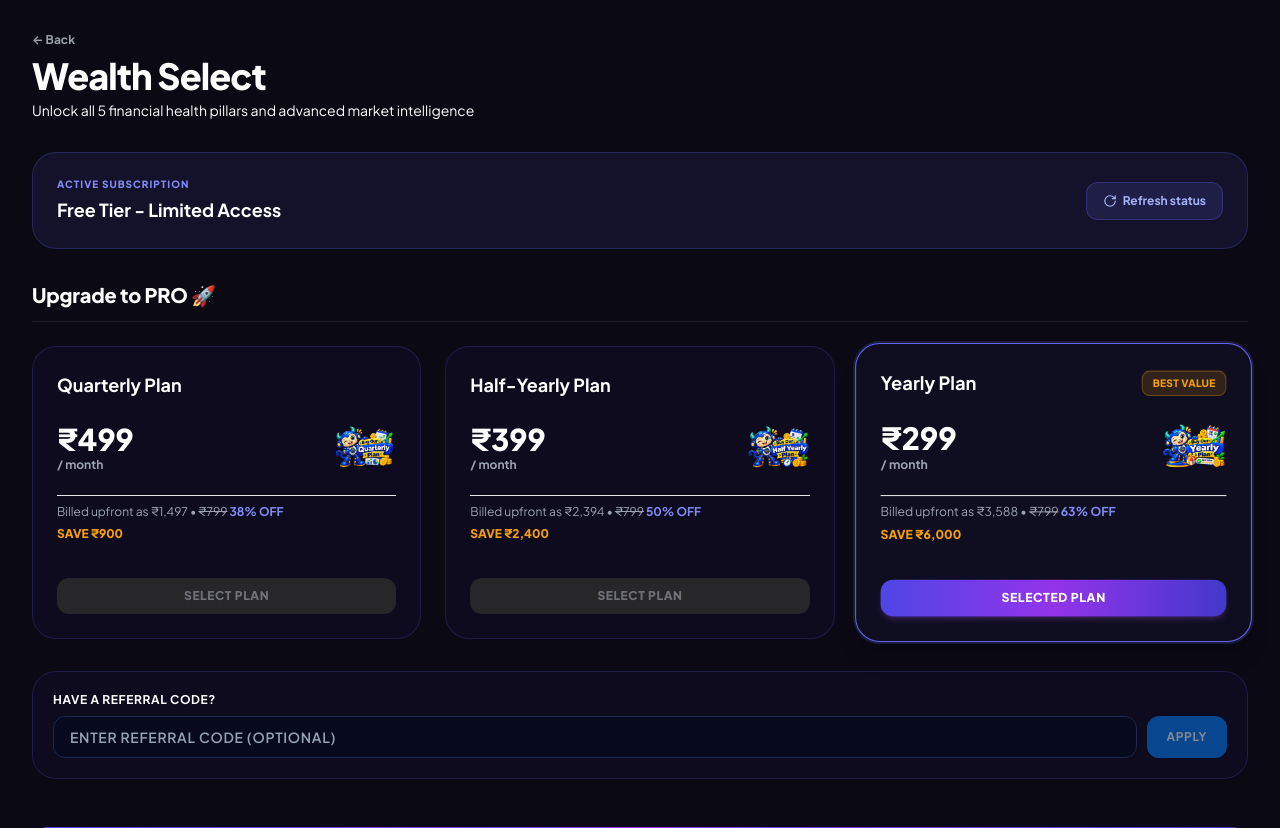
Scenario: Referral Flow - SubscriptionPage & RegisterPage › SubscriptionPage Referral Section › clears applied discount and message when user modifies input after applying
This screenshot has width=1280, height=828.
Click the element with test id "sub-plan-card-3". click: coordinates (227, 492)
box: [32,346,421,639]
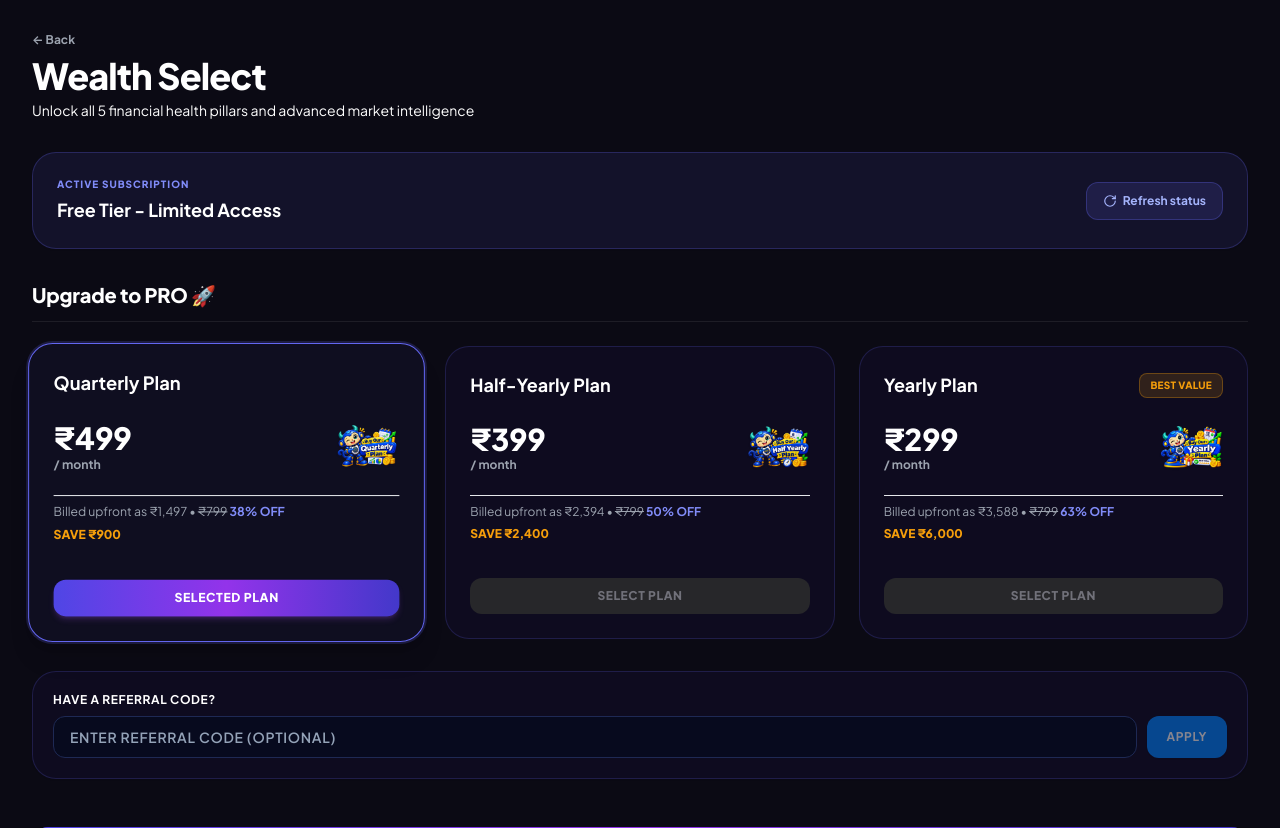
Type "FINFREE" into the field with placeholder "Enter Referral Code (Optional)". click: coordinates (595, 737)
box: [53,716,1136,758]
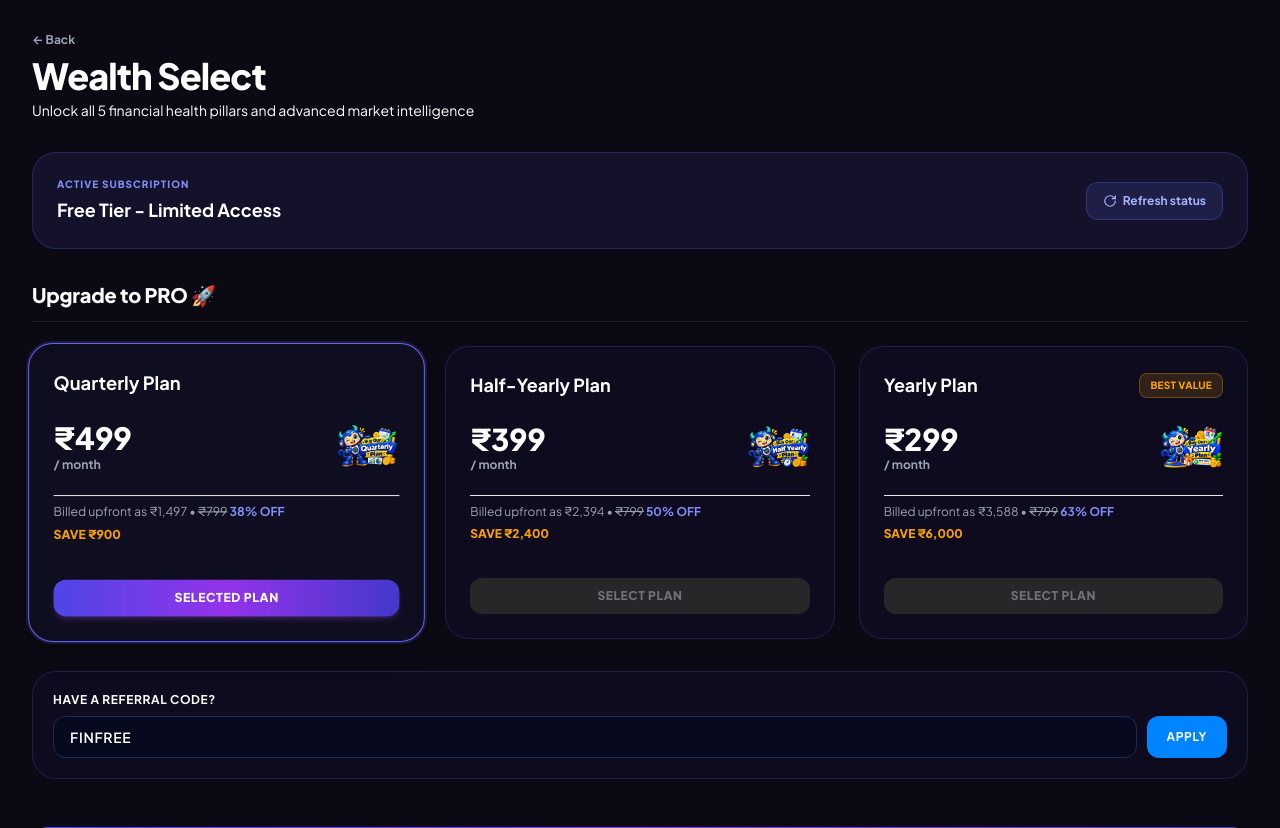
Click the button "APPLY". click: coordinates (1187, 737)
box: [1146,716,1227,758]
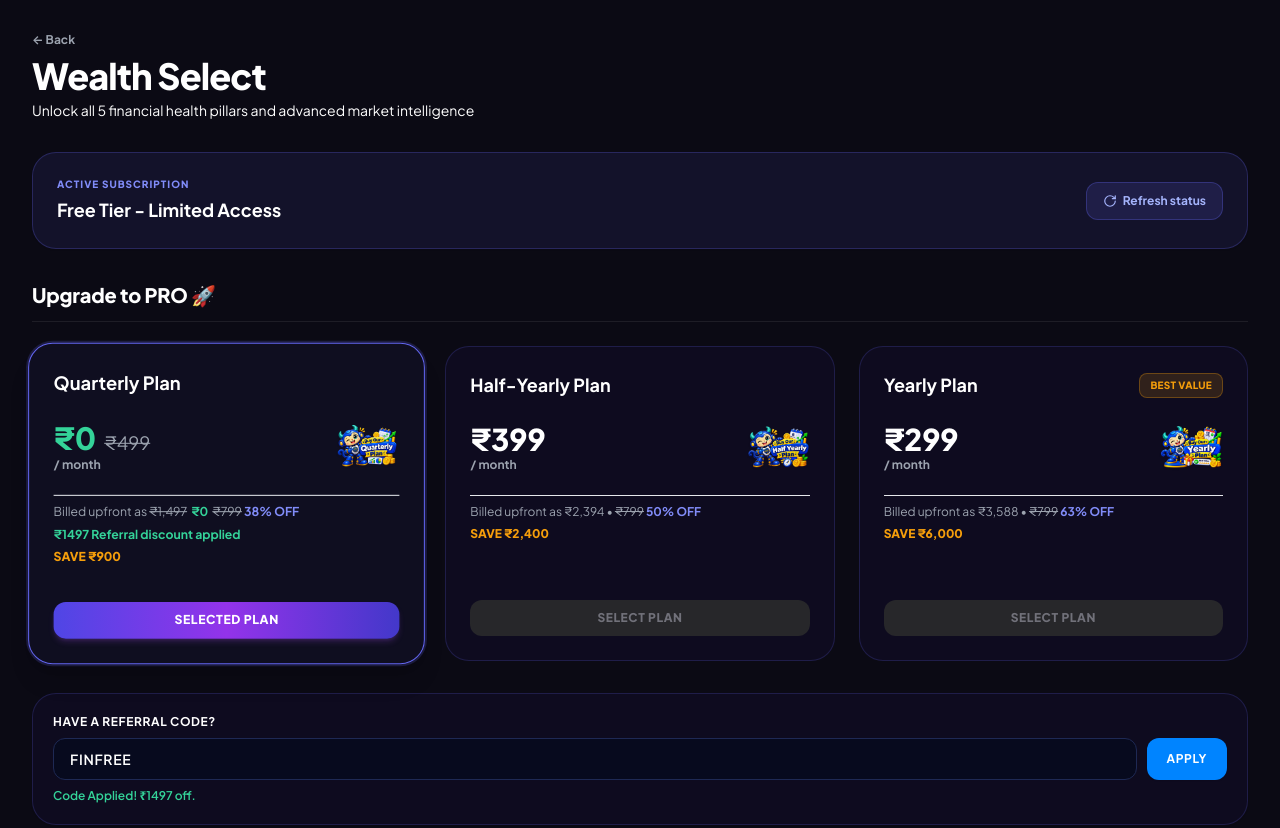
Expected: the text "Code Applied! ₹1497 off." is shown, [53,788,196,803]
// User modifies text
Replace the text in the field with placeholder "Enter Referral Code (Optional)" with "FINFREE2". click: coordinates (595, 759)
box: [53,738,1136,780]
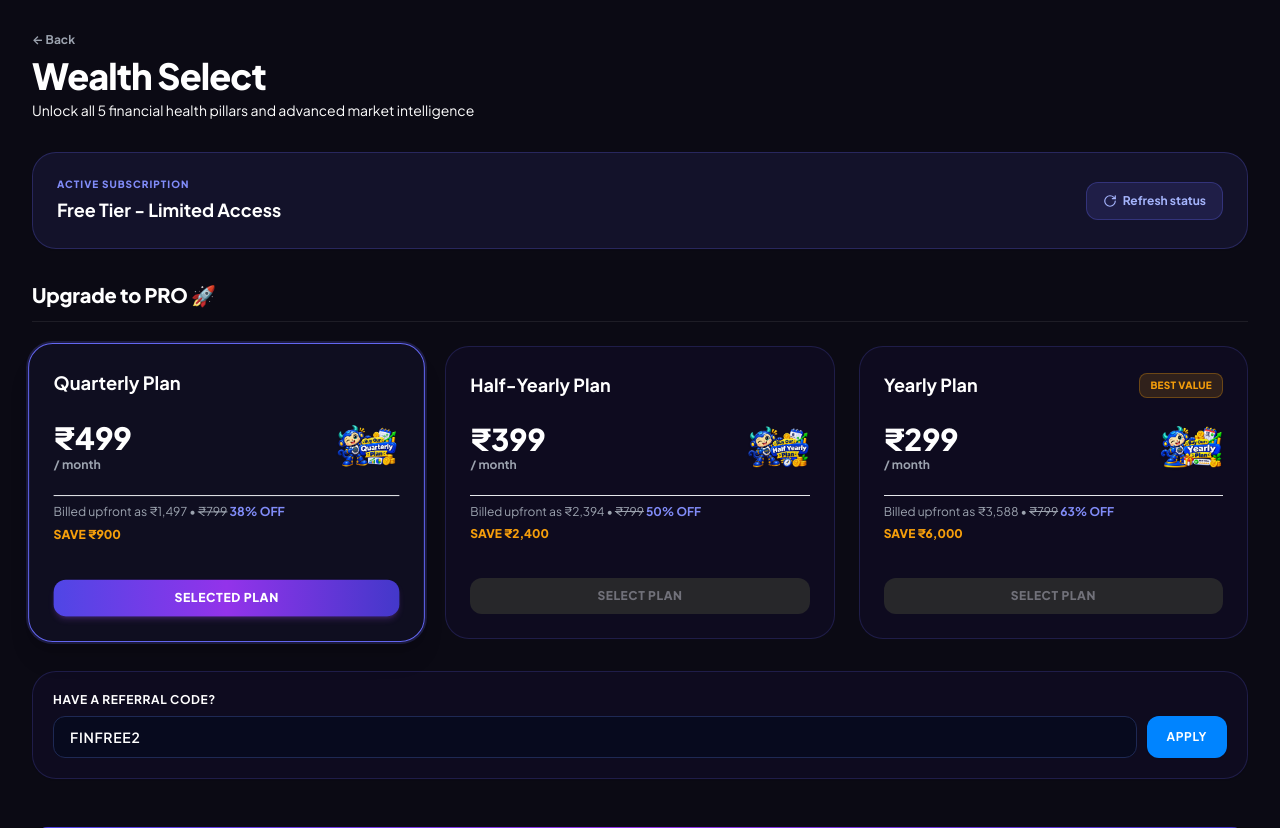
Expected: the text "Code Applied! ₹1497 off." is gone
Expected: the text "₹1497 Referral discount applied" is gone
